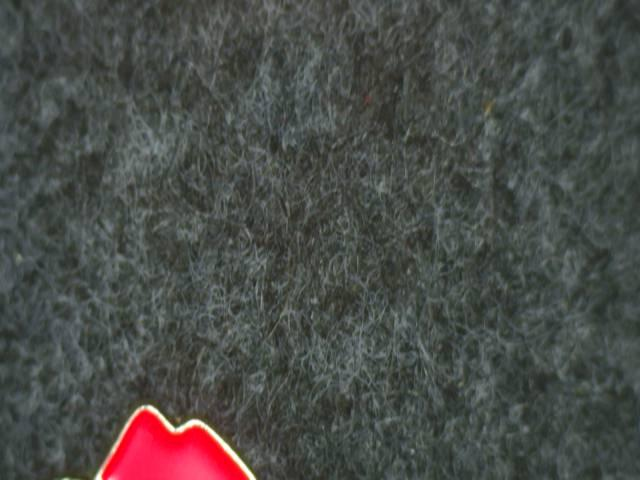Red-Hat: (59, 385, 281, 480)
